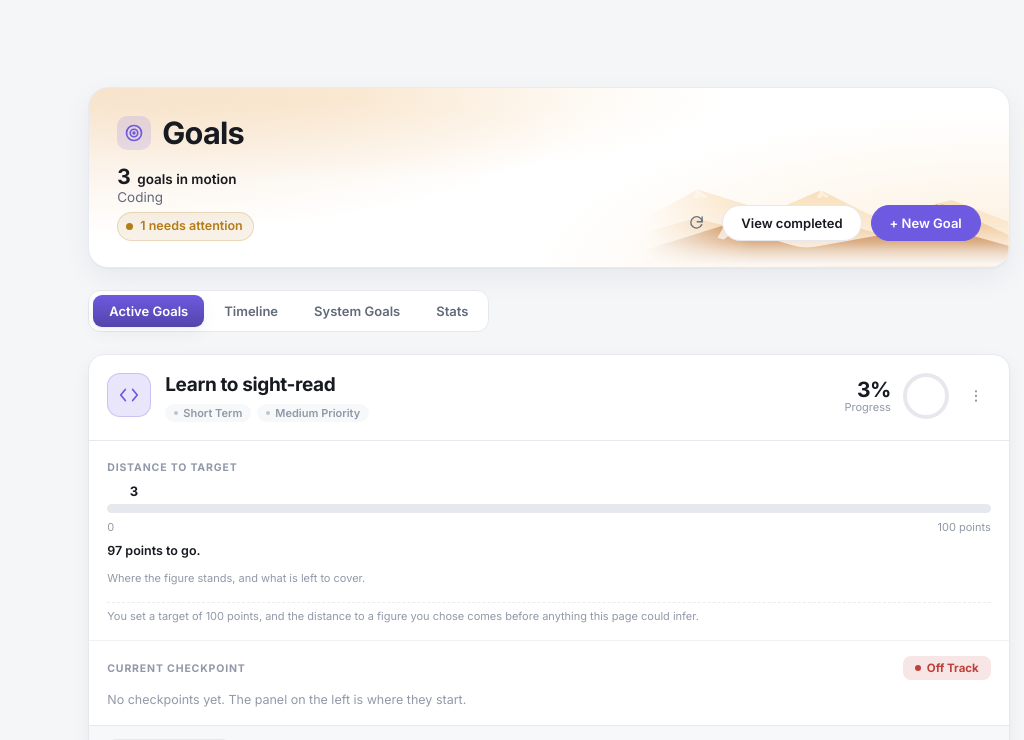
Scenario: the per-goal diagnosis › still opens the goal from the row
Click the tab "Stats" at (452, 311), box [420,295,484,327]
(page scrolled)
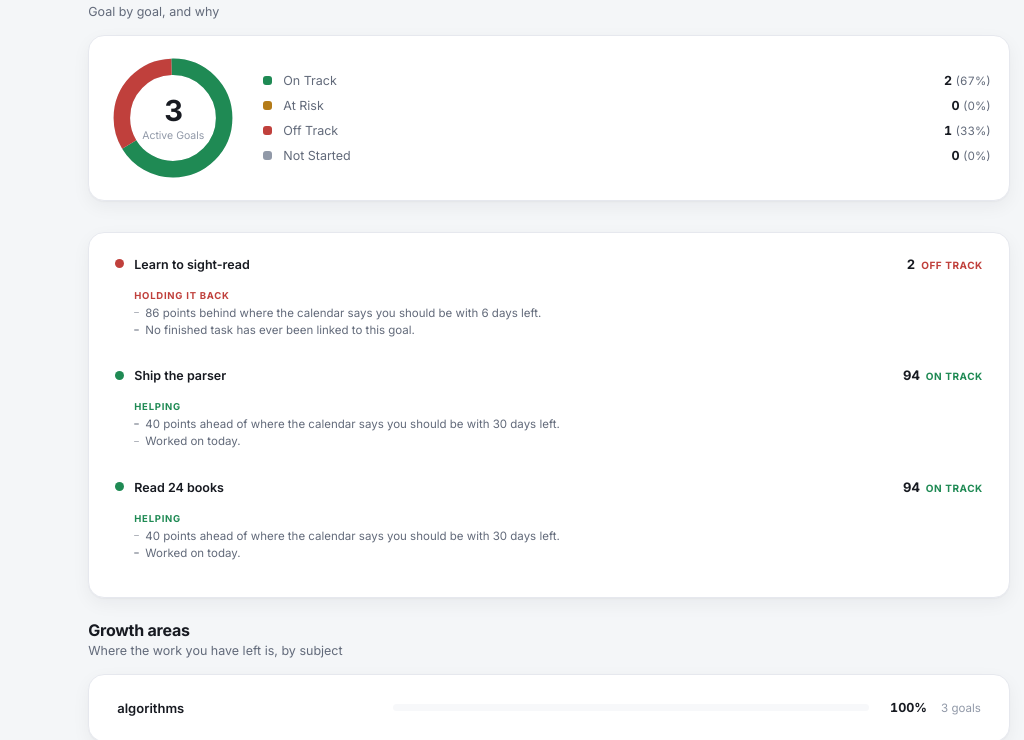
Click the button "Ship the parser 94 On Track" at (180, 376), box [107,360,991,390]
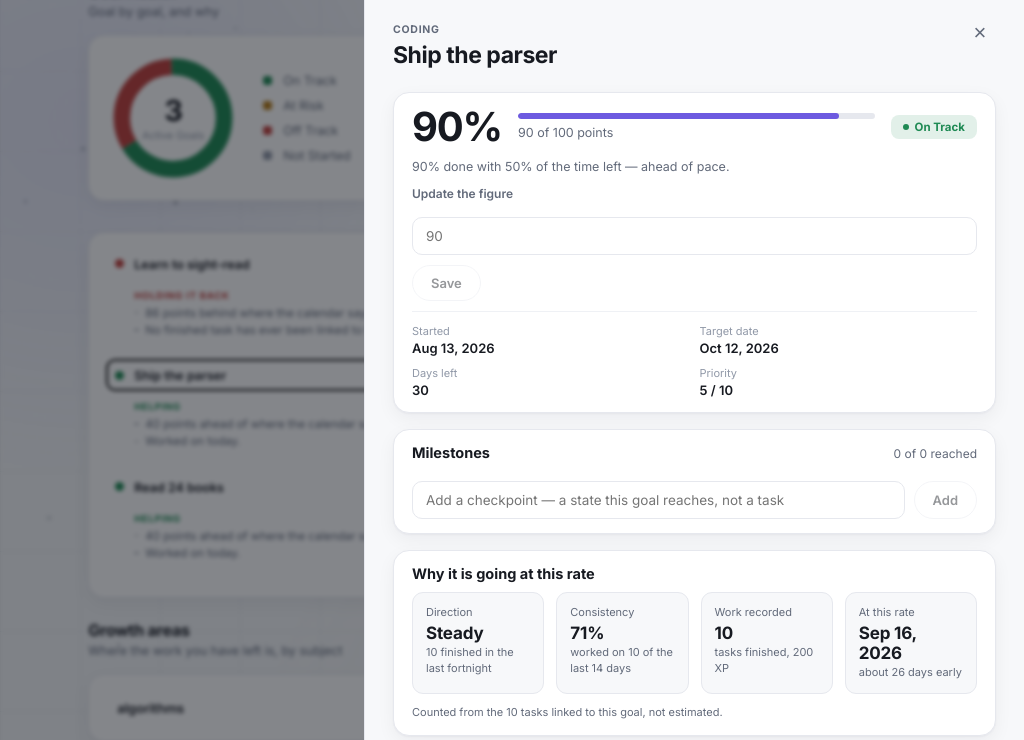
Now the button named "Close" is shown, box [964,17,996,49]
